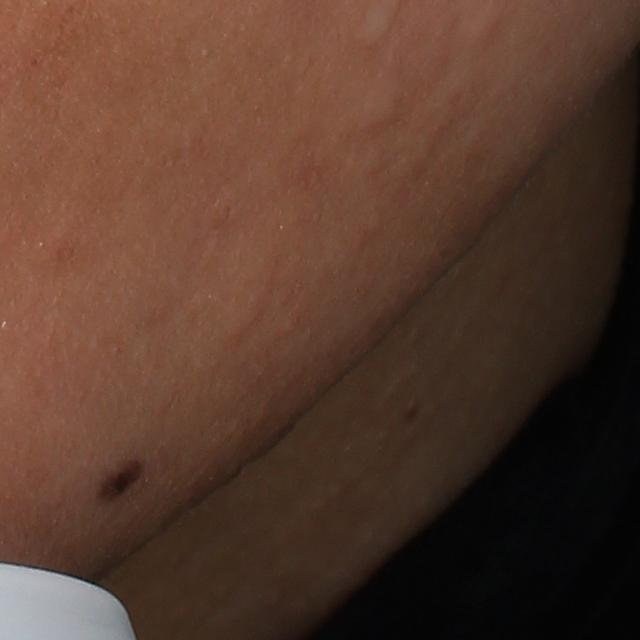nevus: (88, 455, 150, 505)
